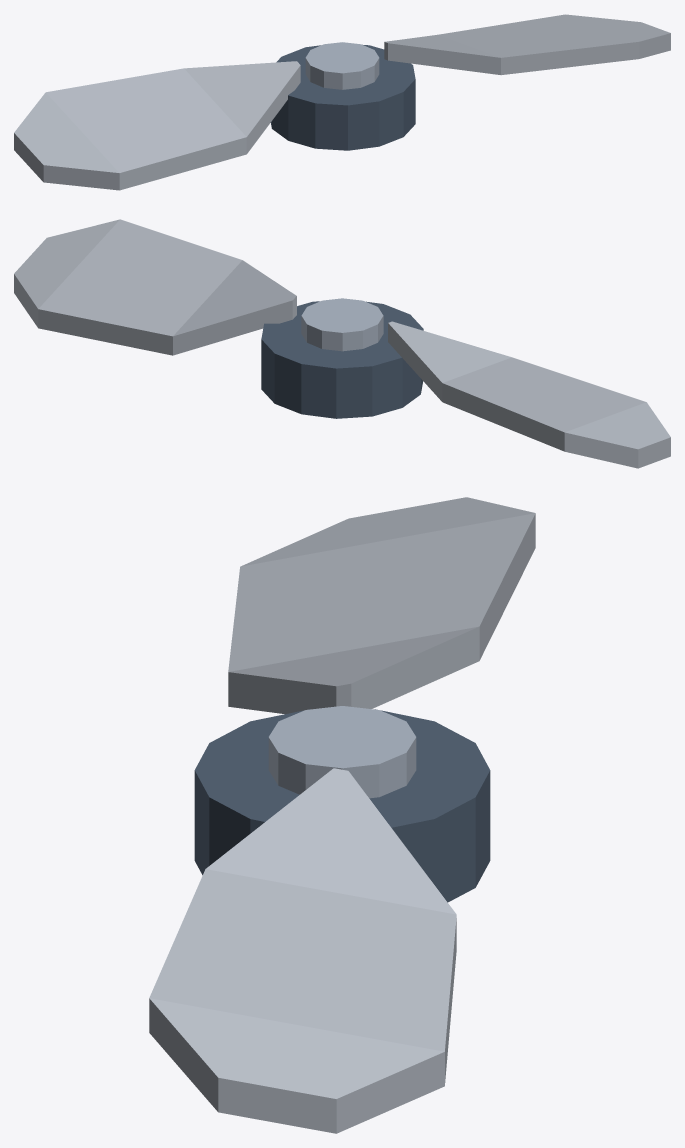
The model's file is prop-base.glb.
3 views of the same model, one above another, from view 1: azimuth 30°, elevation 25°; view 2: azimuth 150°, elevation 25°; view 3: azimuth 270°, elevation 25° (orthographic). The views are drawn at different scales.
Visible parts, largest first — view 1: 001_pitched_aerofoil, 000_pitched_aerofoil, 002_center_hub, 003_hub_lock; view 2: 000_pitched_aerofoil, 001_pitched_aerofoil, 002_center_hub, 003_hub_lock; view 3: 000_pitched_aerofoil, 001_pitched_aerofoil, 002_center_hub, 003_hub_lock.
Part boxes in pixels (x1,y1,x2,y2): 001_pitched_aerofoil: (14,61,300,190); 000_pitched_aerofoil: (384,14,670,75); 002_center_hub: (270,44,415,150); 003_hub_lock: (305,42,379,89); 000_pitched_aerofoil: (14,219,296,355); 001_pitched_aerofoil: (388,321,670,468); 002_center_hub: (261,301,423,418); 003_hub_lock: (301,298,383,351); 000_pitched_aerofoil: (149,768,456,1133); 001_pitched_aerofoil: (228,497,535,714); 002_center_hub: (194,709,490,902); 003_hub_lock: (268,706,416,798).
Size of the model in its own units: 1.58 by 0.1712 by 0.4445.
